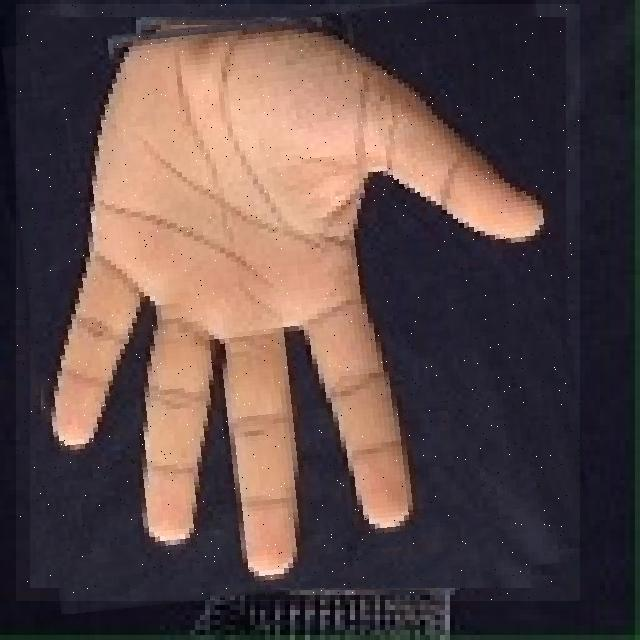Yes: (17, 4, 580, 601)
